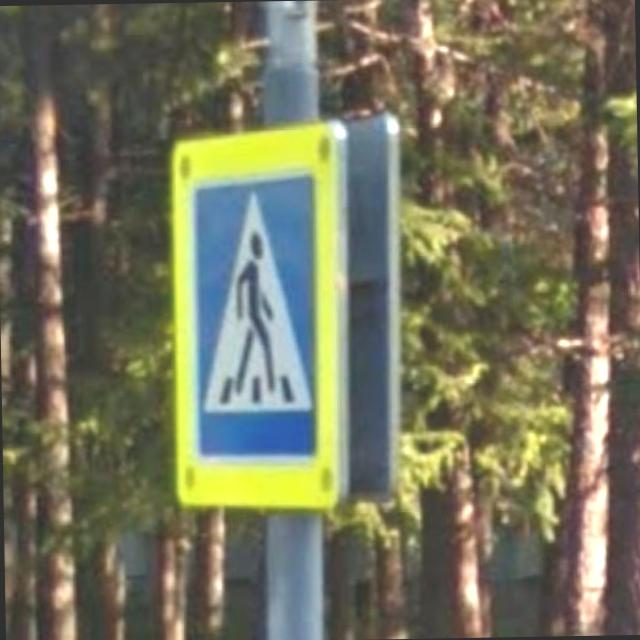Przejscie dla pieszych: (159, 114, 358, 516)
